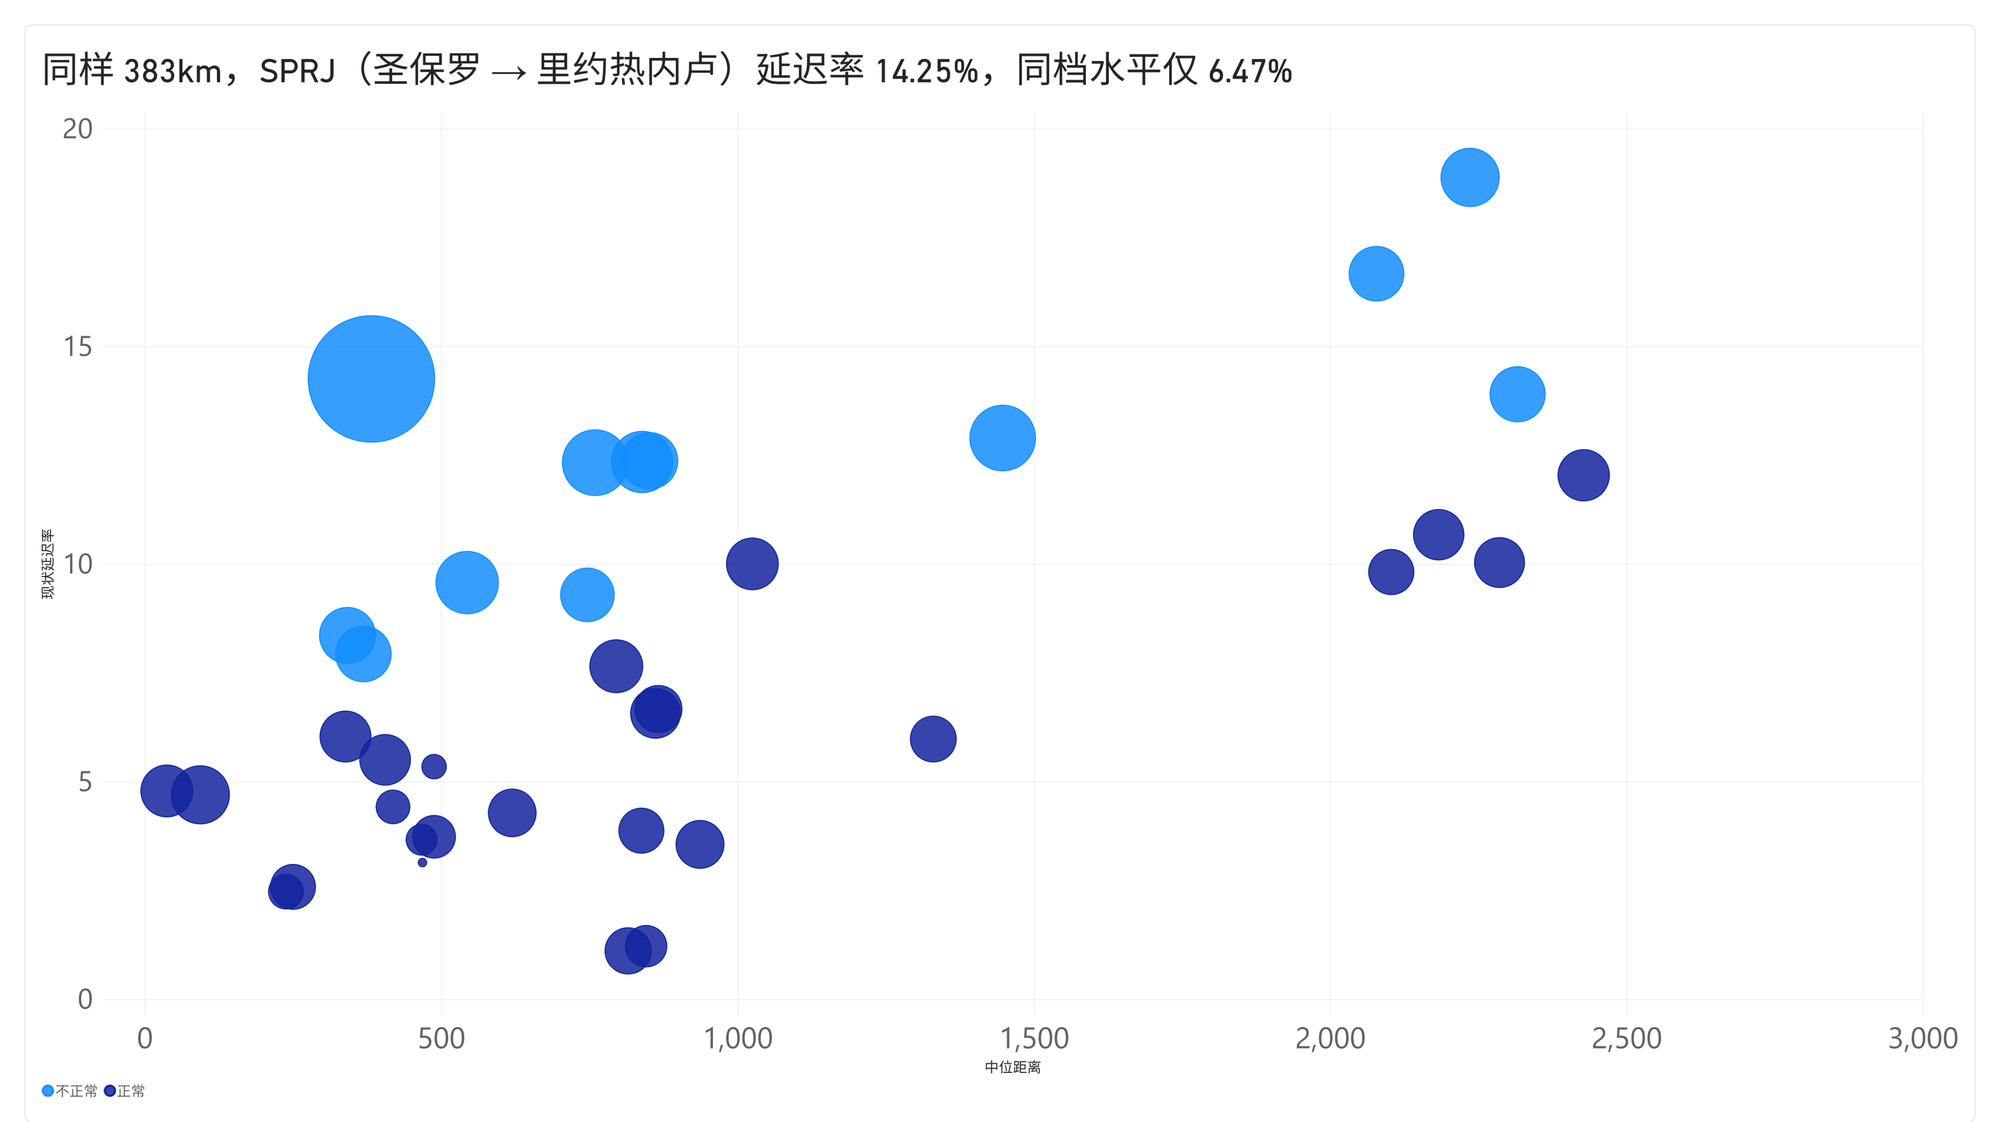

The dashboard page shown, as its layout file describes it:
{"tool":"powerbi","page":{"name":"第 6 页","canvas":[1920,1080],"ordinal":5},"visuals":[{"type":"scatterChart","title":"同样 383km，SPRJ（圣保罗 → 里约热内卢）延迟率 14.25%，同档水平仅 6.47%","fields":{"Series":["分线路统计.延迟率是否不正常"],"Size":["Avg(分线路统计.超额延迟贡献)"],"X":["分线路统计.中位距离"],"Y":["分线路统计.现状延迟率"]},"box":[0,0,1920,1080.6],"z":1}]}

Visuals, with their boxes in screenshot pixels (x1, y1, x2, y2), scaled from the page's 1920x1080 canvas onto the 2000x1146 screenshot:
"同样 383km，SPRJ（圣保罗 → 里约热内卢）延迟率 14.25%，同档水平仅 6.47%" scatterChart: box(0, 0, 1999, 1145)
